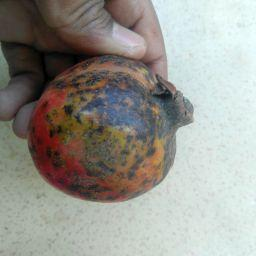pomegranate: (27, 56, 196, 202)
